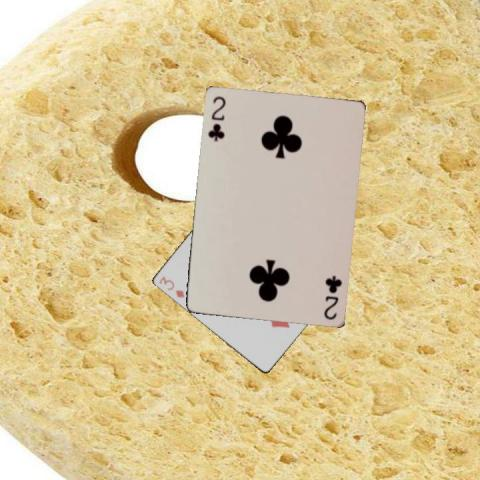2c: (321, 273, 343, 321), (205, 92, 226, 142)
3d: (156, 274, 186, 300)
